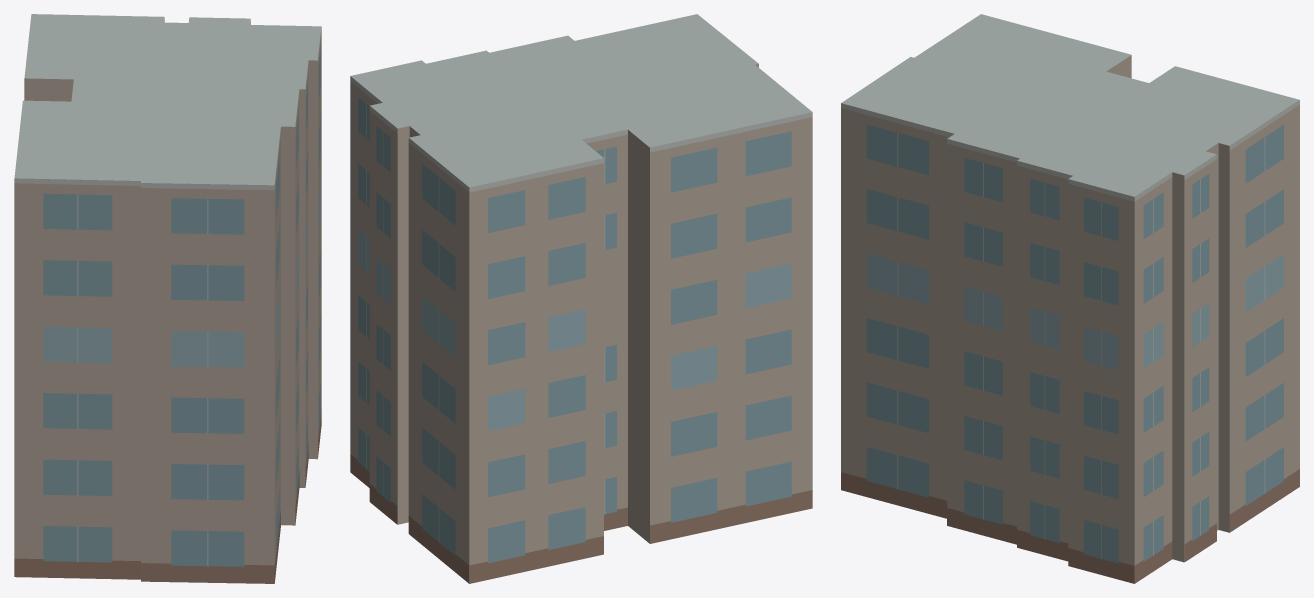
File: survey-upis-32845261.glb
The picture shows the model from 3 angles, left to right: view 1: azimuth 30°, elevation 25°; view 2: azimuth 150°, elevation 25°; view 3: azimuth 270°, elevation 25°; orthographic projection. The views are drawn at different scales.
Parts seen in each view (by area): view 1: survey-upis-32845261.tmp; view 2: survey-upis-32845261.tmp; view 3: survey-upis-32845261.tmp.
Part boxes in pixels (x1,y1,x2,y2): survey-upis-32845261.tmp: [14, 14, 321, 583]; survey-upis-32845261.tmp: [350, 14, 812, 583]; survey-upis-32845261.tmp: [841, 14, 1299, 583].
Size of the model in its own units: 19.77 by 19.5 by 20.96.
